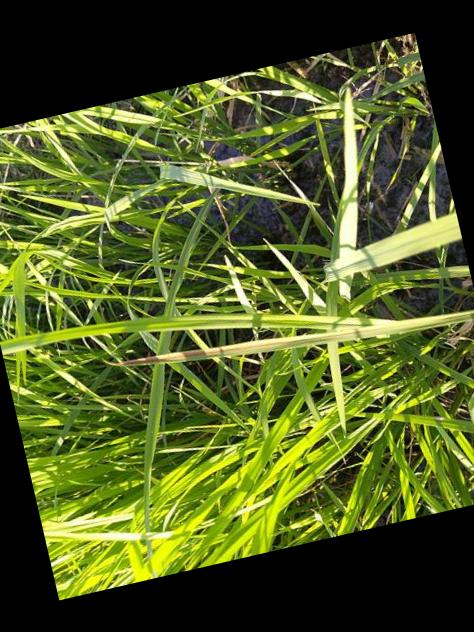Leaf Streak: (107, 326, 368, 366)
